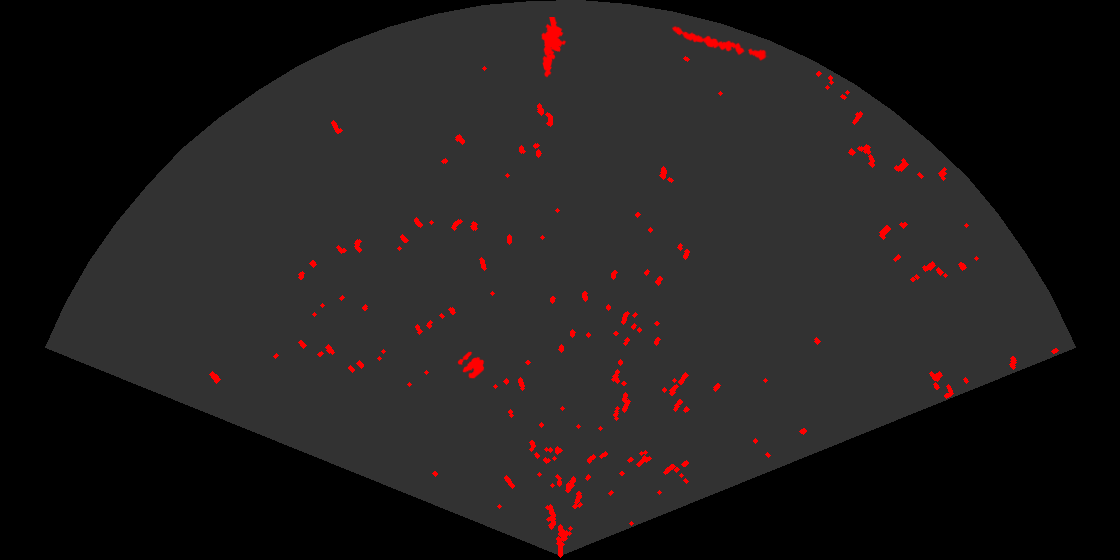ball: (456, 350, 486, 380)
chain: (670, 24, 769, 62)
frogman: (540, 17, 568, 78)
